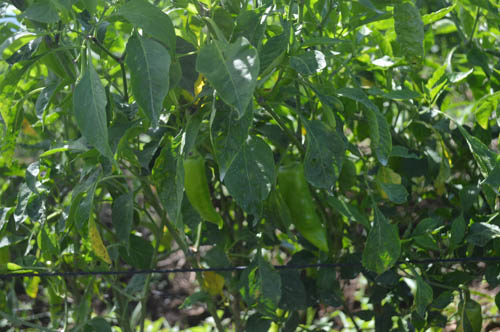ChiliPepper: (278, 166, 329, 253), (181, 157, 224, 226)
